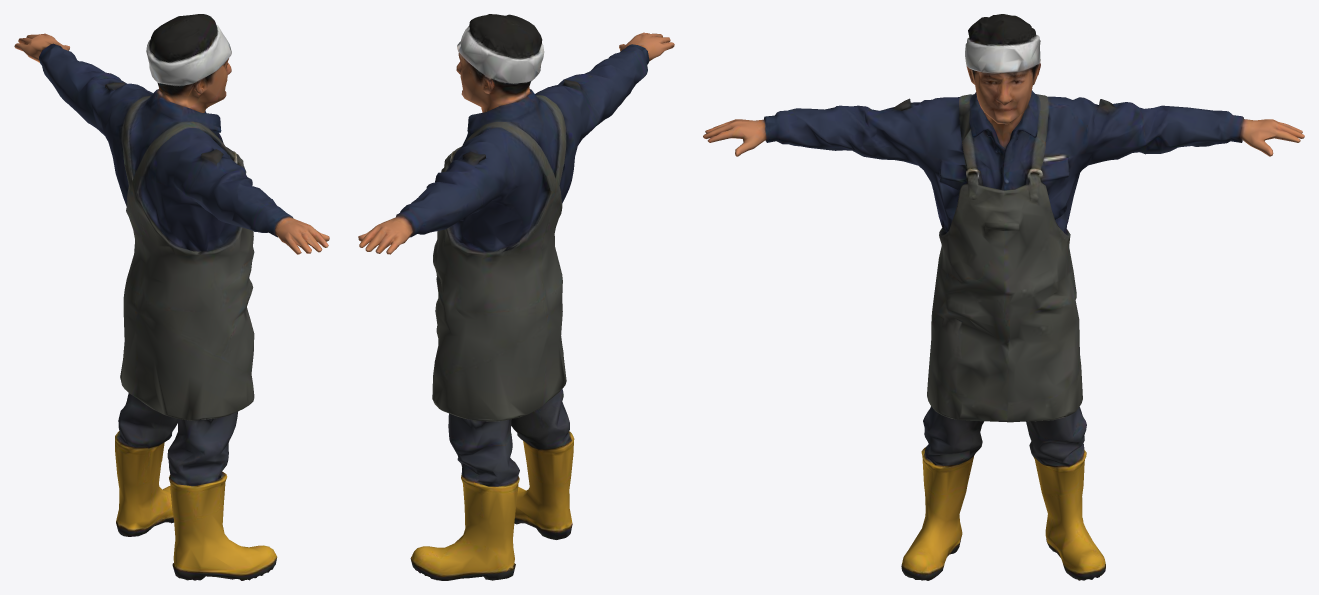
File: fisher.glb
3 views of the same model, side by side, from view 1: azimuth 30°, elevation 25°; view 2: azimuth 150°, elevation 25°; view 3: azimuth 270°, elevation 25° (orthographic). The views are drawn at different scales.
Parts seen in each view (by area): view 1: tripo_node_b1f4f5ba-08ae-4a48-9eb0-90de3aa57ae3; view 2: tripo_node_b1f4f5ba-08ae-4a48-9eb0-90de3aa57ae3; view 3: tripo_node_b1f4f5ba-08ae-4a48-9eb0-90de3aa57ae3.
Boxes of the visible parts, <box> form: tripo_node_b1f4f5ba-08ae-4a48-9eb0-90de3aa57ae3: <box>14,14,329,580</box>; tripo_node_b1f4f5ba-08ae-4a48-9eb0-90de3aa57ae3: <box>358,14,674,580</box>; tripo_node_b1f4f5ba-08ae-4a48-9eb0-90de3aa57ae3: <box>703,14,1304,580</box>.
Size of the model in its own units: 0.2298 by 0.9992 by 0.9953.
1 material, 1 textured.
